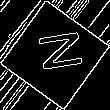N_W: (27, 31, 83, 79)
